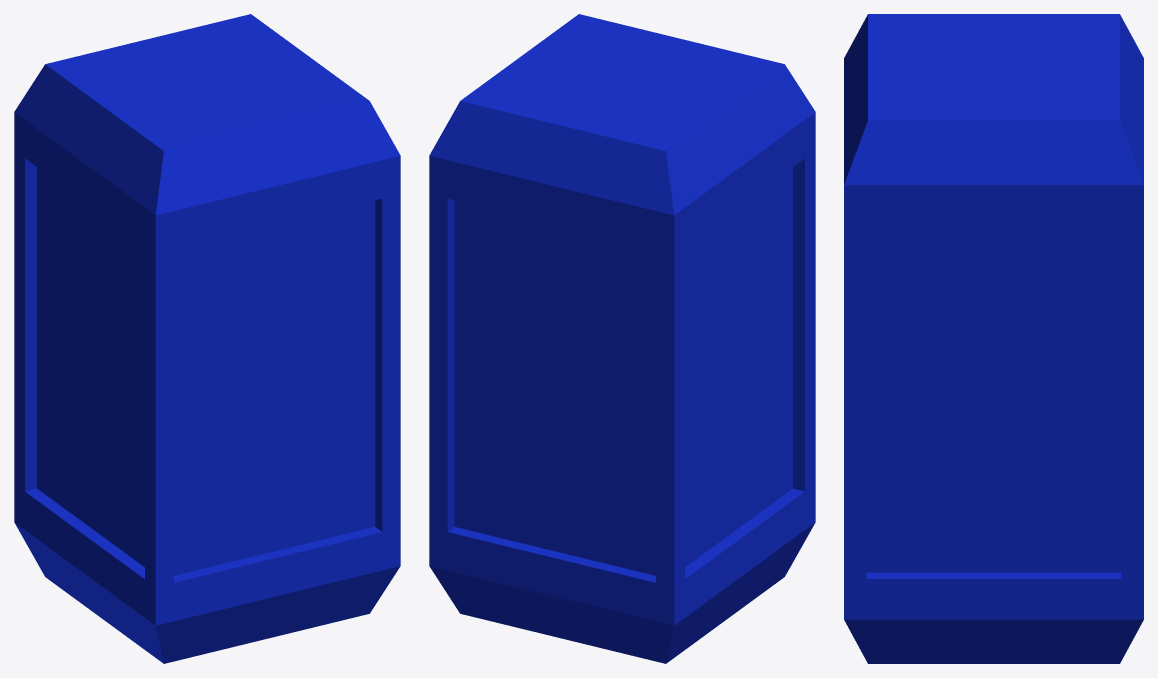
File: GJM-WGJ-234-Tile_Blue.obj
The picture shows the model from 3 angles, left to right: view 1: azimuth 30°, elevation 25°; view 2: azimuth 150°, elevation 25°; view 3: azimuth 270°, elevation 25°; orthographic projection. The views are drawn at different scales.
Visible parts, largest first — view 1: Tile_Block_(Blue)_Cube.003; view 2: Tile_Block_(Blue)_Cube.003; view 3: Tile_Block_(Blue)_Cube.003.
Part boxes in pixels (x1,y1,x2,y2): Tile_Block_(Blue)_Cube.003: (14,14,400,663); Tile_Block_(Blue)_Cube.003: (429,14,815,663); Tile_Block_(Blue)_Cube.003: (844,14,1143,663).
Bounding box in the file's own units: 2 × 4 × 2.
1 material, 1 textured.
